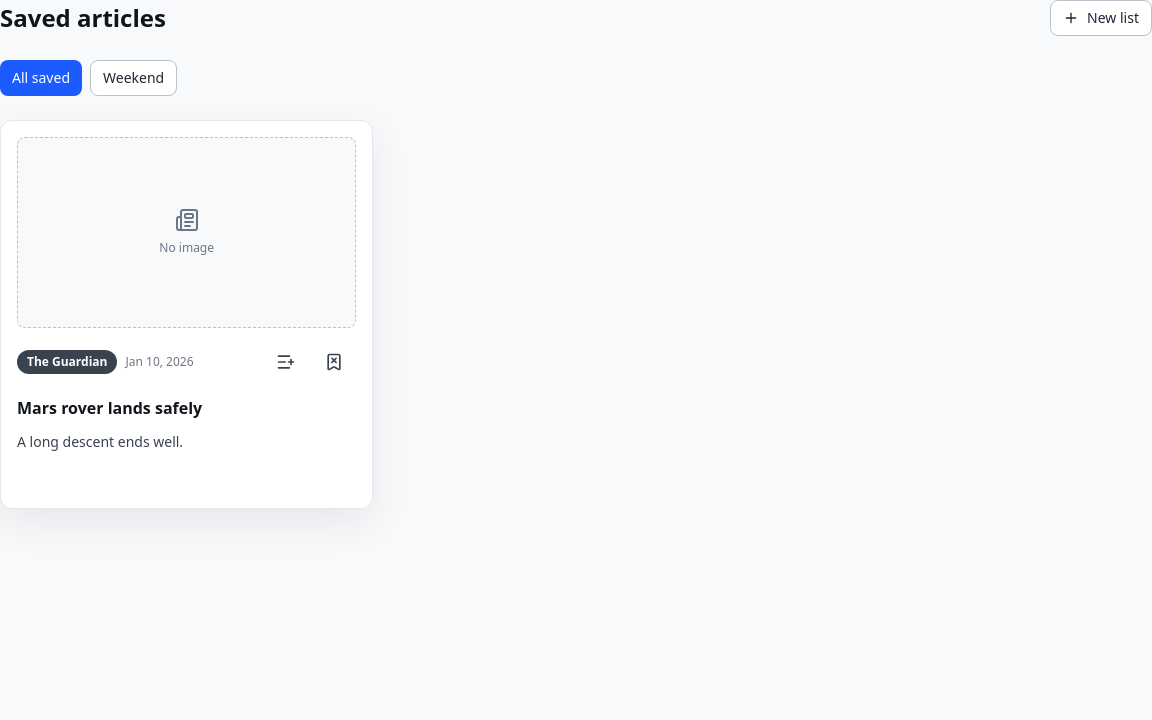
Test: BookmarksPage — membership and removal › removes the article on confirm, out of saved and out of every list holding it
Click the button named "Remove saved article": (334, 362) x1=312 y1=340 x2=356 y2=384
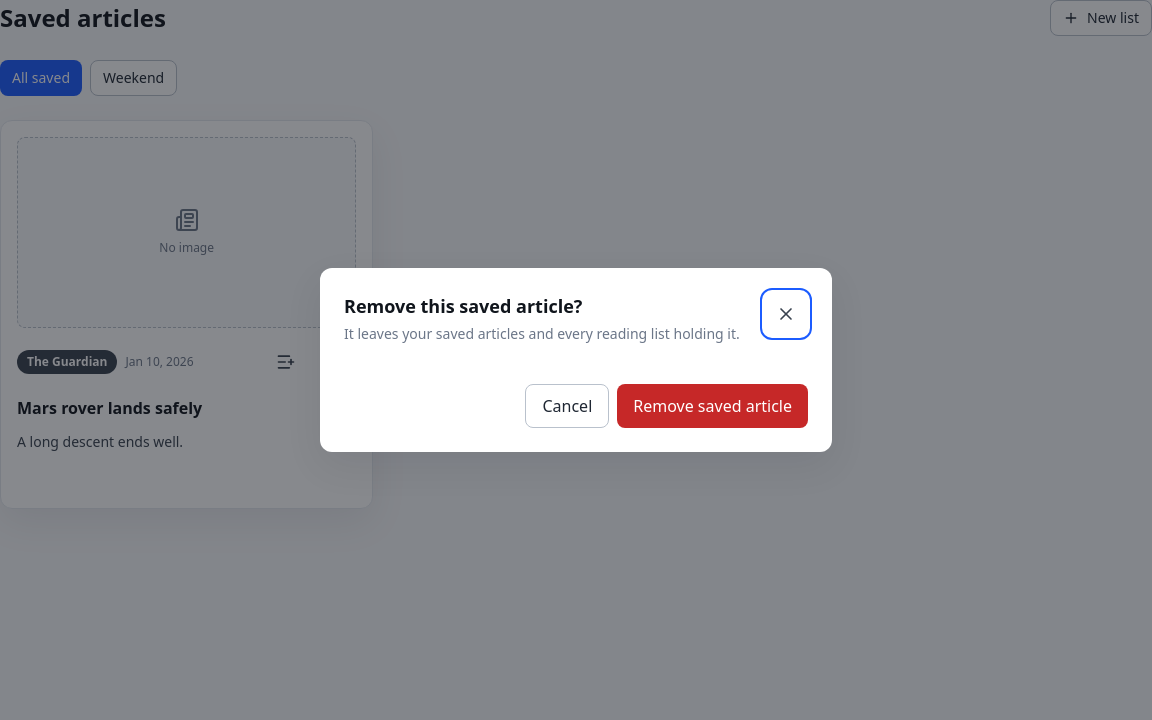
Click the button "Remove saved article": (713, 406) x1=617 y1=384 x2=808 y2=428
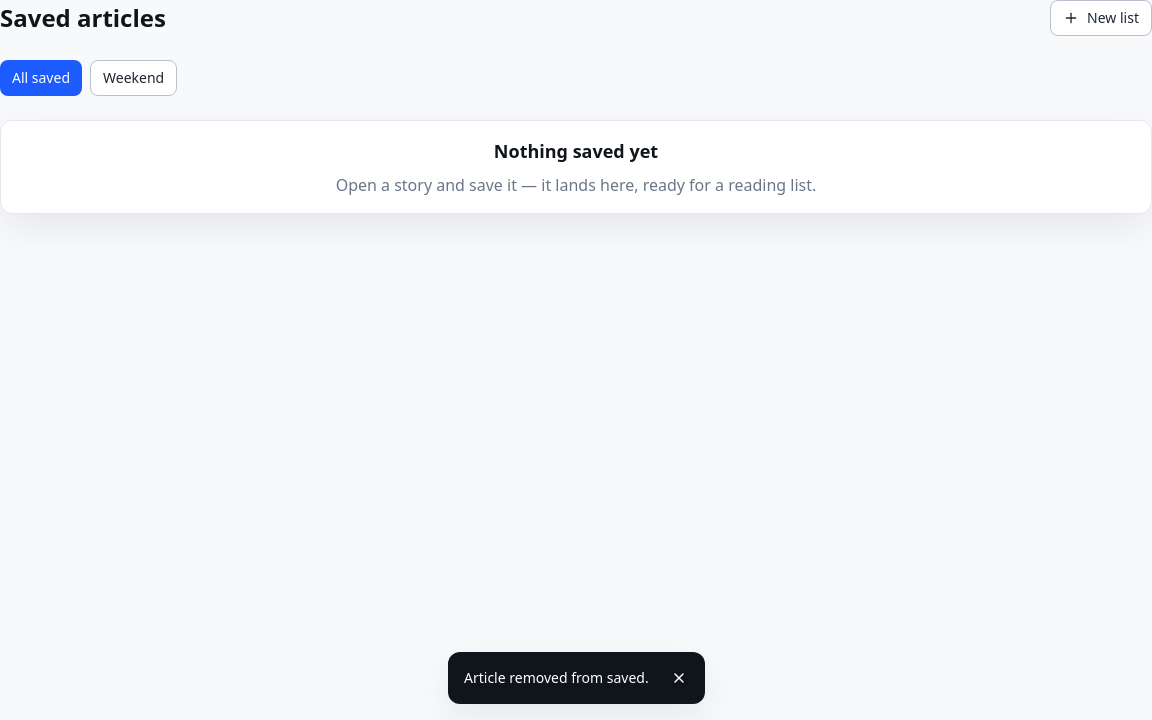
Expected: the heading "Nothing saved yet" is shown, x1=494 y1=139 x2=658 y2=163
Expected: the text "Article removed from saved." is shown, x1=464 y1=668 x2=648 y2=688
